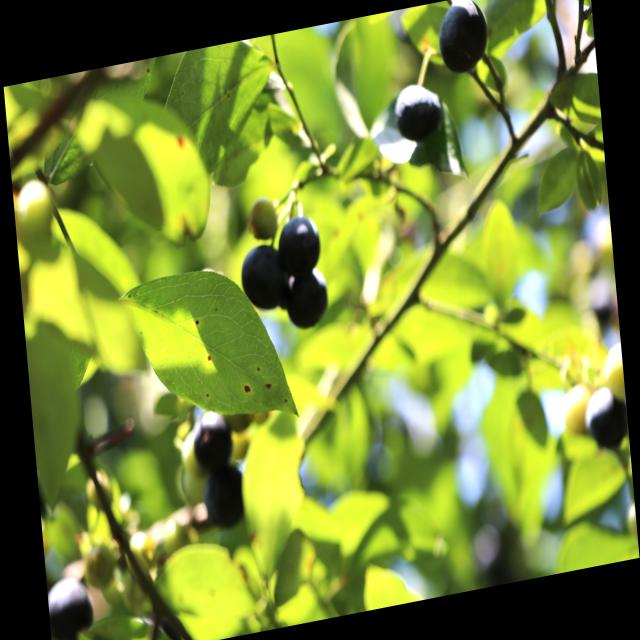blueberry: (435, 0, 494, 84), (280, 257, 339, 339), (197, 458, 252, 534), (391, 74, 445, 145), (188, 405, 242, 475), (237, 239, 287, 314), (47, 574, 98, 640), (580, 376, 624, 450), (277, 212, 324, 279)
blueberry-unripe: (244, 197, 280, 242)
